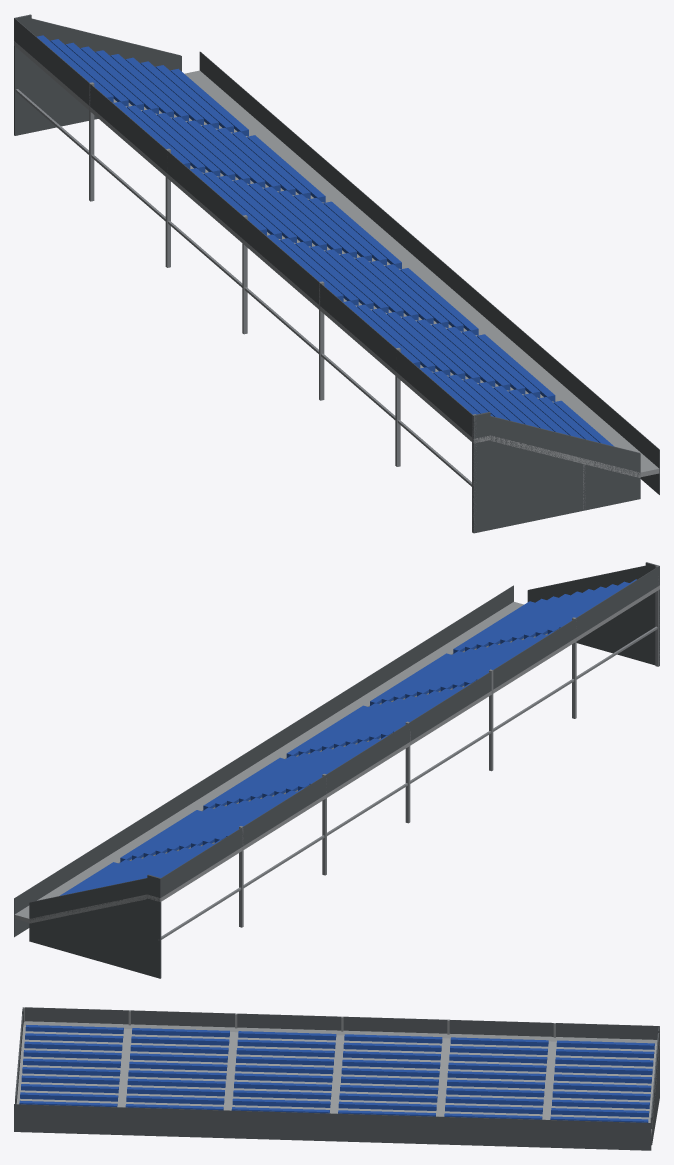
File: mza_stand_biassono.glb
The picture shows the model from 3 angles, top to bottom: view 1: azimuth 30°, elevation 25°; view 2: azimuth 150°, elevation 25°; view 3: azimuth 270°, elevation 25°; orthographic projection. The views are drawn at different scales.
Visible parts, largest first — view 1: monza-biassono; view 2: monza-biassono; view 3: monza-biassono.
Part boxes in pixels (x1,y1,x2,y2): monza-biassono: (14,14,659,533); monza-biassono: (14,562,659,978); monza-biassono: (14,1007,659,1150).
Size of the model in its own units: 13.41 by 6.2 by 50.77.
